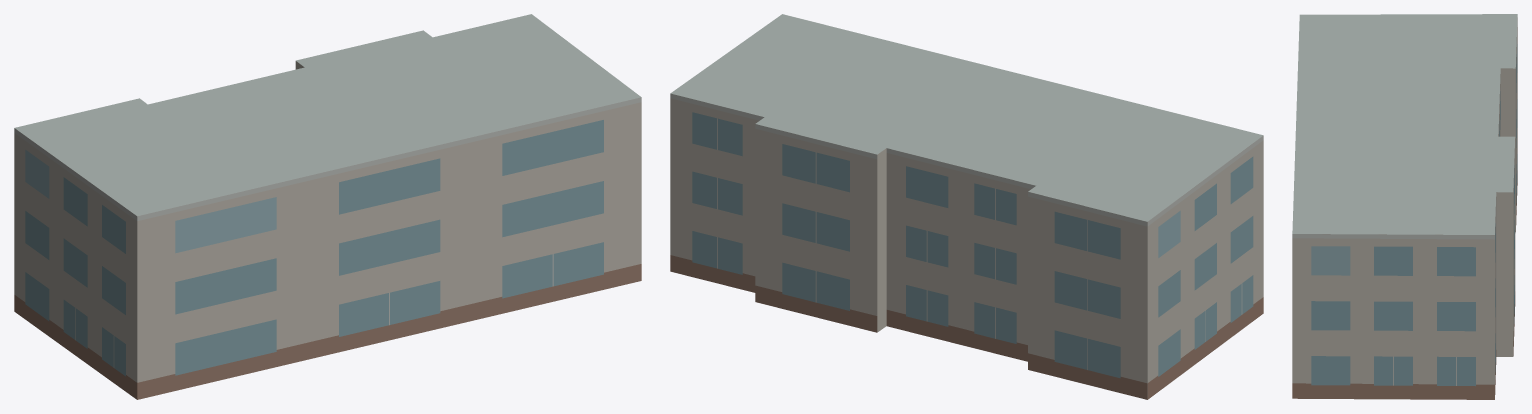
The model's file is survey-upis-32872344.glb.
3 renders of one model, left to right at view 1: azimuth 30°, elevation 25°; view 2: azimuth 150°, elevation 25°; view 3: azimuth 270°, elevation 25°, orthographic. The views are drawn at different scales.
Parts seen in each view (by area): view 1: survey-upis-32872344.tmp; view 2: survey-upis-32872344.tmp; view 3: survey-upis-32872344.tmp.
Boxes of the visible parts, bbox=[...] form: survey-upis-32872344.tmp: bbox=[14, 14, 641, 399]; survey-upis-32872344.tmp: bbox=[670, 14, 1263, 399]; survey-upis-32872344.tmp: bbox=[1292, 14, 1517, 399].
Size of the model in its own units: 26.33 by 9.15 by 11.34.
